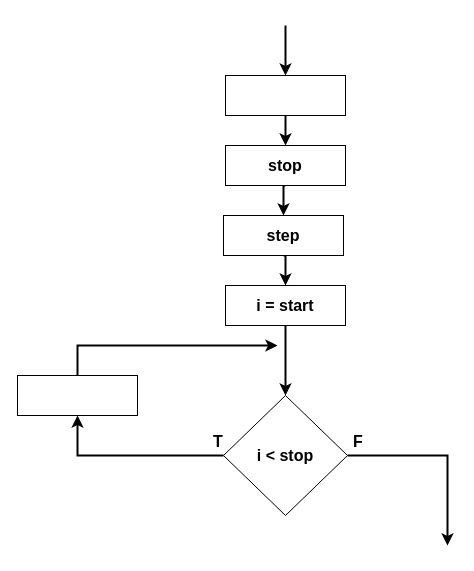
Image size: 474x571. Some labels were removed from this diagram. The shapes that lost their labels are listed below. From the top down, each one's centre as x and y in pixels, then its label:
(x=285, y=95): start
(x=77, y=395): i = i + step
